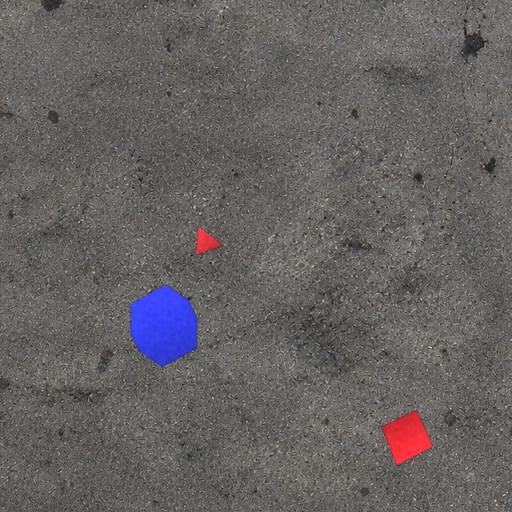RED_SQUARE: (380, 409, 434, 466)
